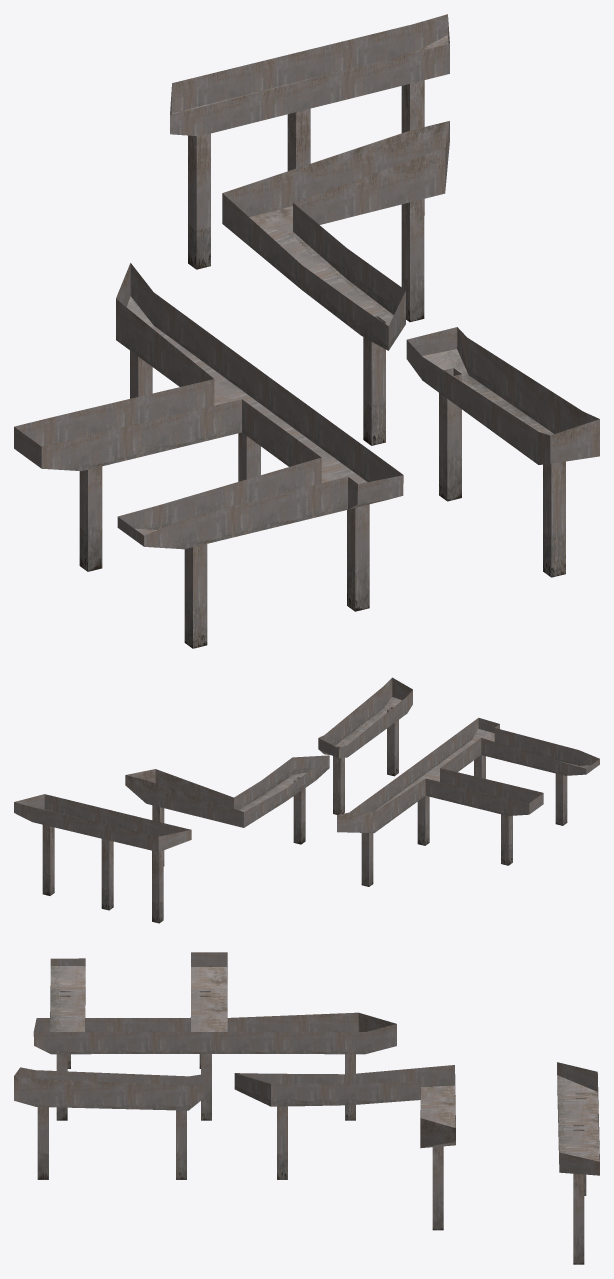
File: supports03_lan.obj
The picture shows the model from 3 angles, top to bottom: view 1: azimuth 30°, elevation 25°; view 2: azimuth 150°, elevation 25°; view 3: azimuth 270°, elevation 25°; orthographic projection. The views are drawn at different scales.
Visible parts, largest first — view 1: supports03_LAn; view 2: supports03_LAn; view 3: supports03_LAn.
Part boxes in pixels (bbox=[...]): supports03_LAn: bbox=[14, 14, 599, 648]; supports03_LAn: bbox=[14, 677, 599, 923]; supports03_LAn: bbox=[14, 952, 599, 1264].
Bounding box in the file's own units: 57.96 × 13.59 × 61.71.
